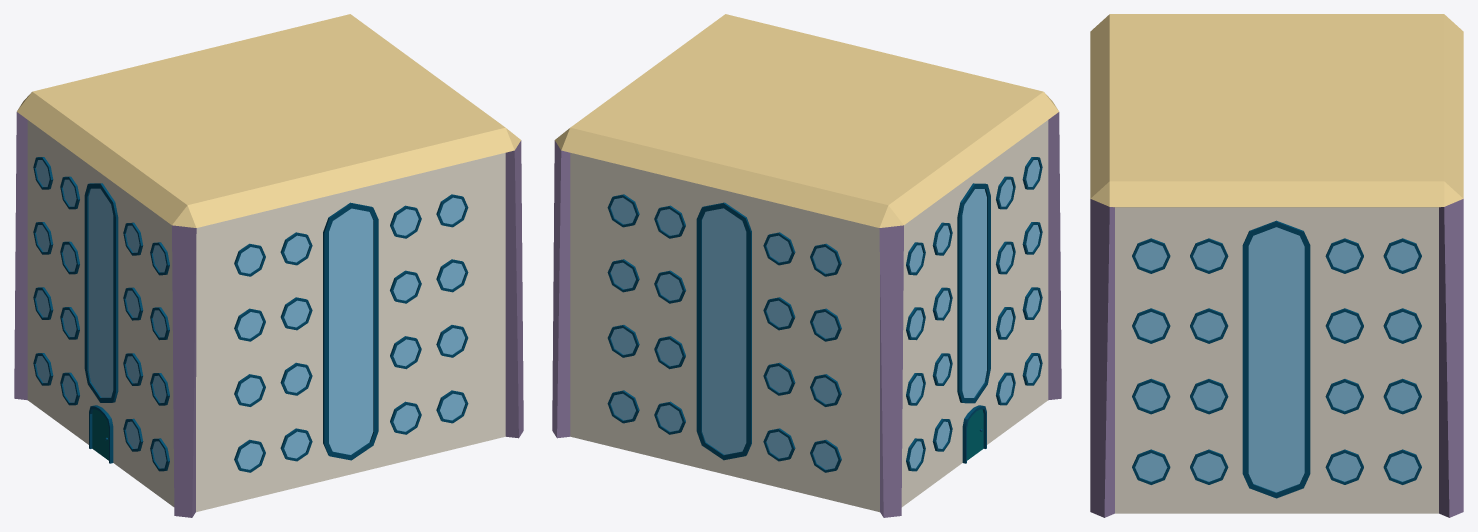
The model's file is House_4.fbx.
The picture shows the model from 3 angles, left to right: view 1: azimuth 30°, elevation 25°; view 2: azimuth 150°, elevation 25°; view 3: azimuth 270°, elevation 25°; orthographic projection. The views are drawn at different scales.
Parts seen in each view (by area): view 1: House_4; view 2: House_4; view 3: House_4.
Part boxes in pixels (x1=…): House_4: x1=14, y1=14, x2=523, y2=517; House_4: x1=552, y1=14, x2=1061, y2=517; House_4: x1=1090, y1=14, x2=1463, y2=517.
Size of the model in its own units: 456 by 392 by 381.
